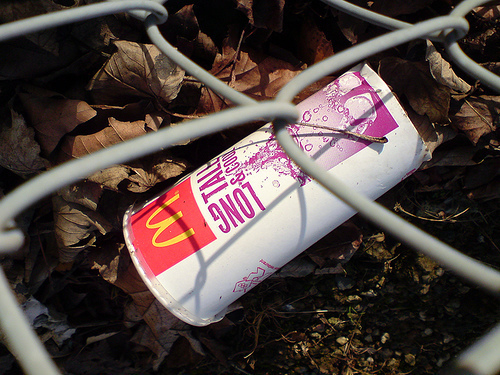litter: (118, 60, 432, 328)
